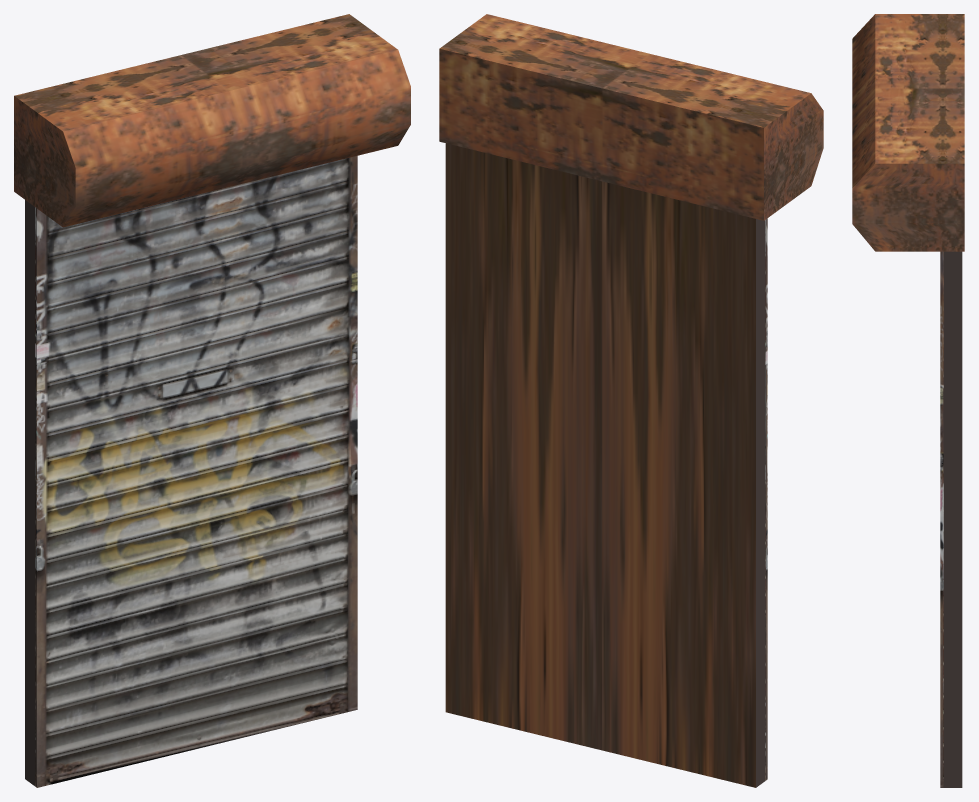
File: roll_up_door.fbx
3 views of the same model, side by side, from view 1: azimuth 30°, elevation 25°; view 2: azimuth 150°, elevation 25°; view 3: azimuth 270°, elevation 25° (orthographic). The views are drawn at different scales.
Visible parts, largest first — view 1: main_door, awning_above; view 2: main_door, awning_above; view 3: awning_above, main_door.
Boxes of the visible parts, bbox=[...] form: main_door: bbox=[25, 156, 357, 787]; awning_above: bbox=[14, 14, 410, 227]; main_door: bbox=[445, 143, 767, 787]; awning_above: bbox=[439, 14, 823, 220]; awning_above: bbox=[852, 14, 964, 251]; main_door: bbox=[940, 251, 962, 787].
Bounding box in the file's own units: 8.12 × 15.85 × 2.58.
1 material, 1 textured.
